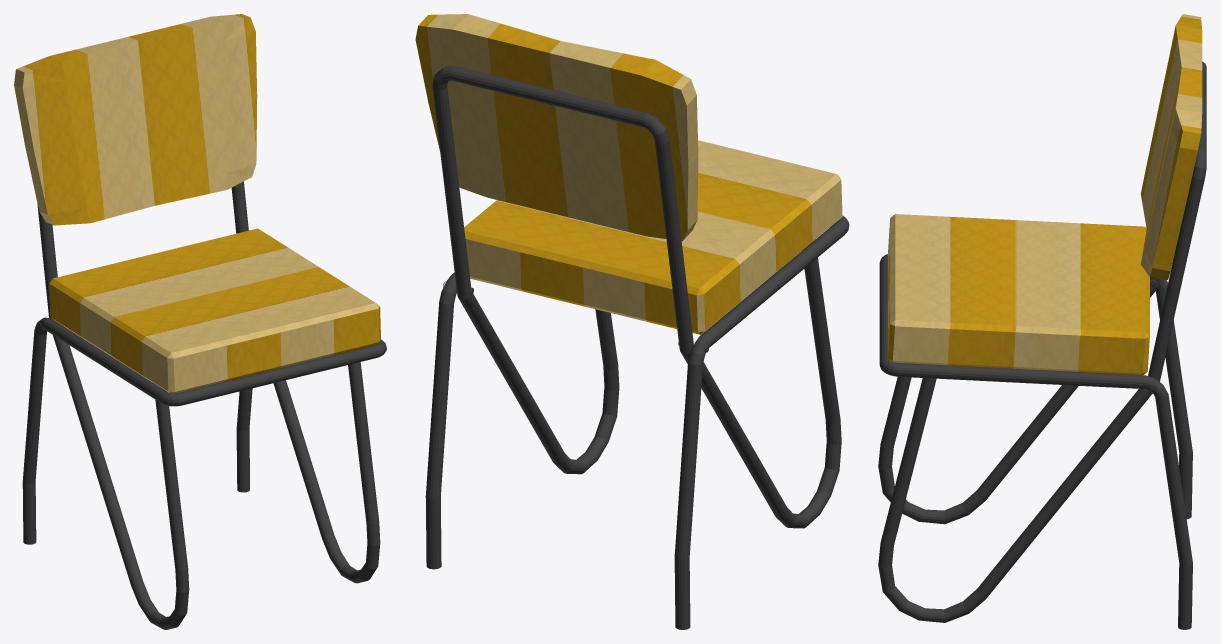
File: sweethome3d-scopia-chair-28.glb
The picture shows the model from 3 angles, left to right: view 1: azimuth 30°, elevation 25°; view 2: azimuth 150°, elevation 25°; view 3: azimuth 270°, elevation 25°; orthographic projection. The views are drawn at different scales.
Visible parts, largest first — view 1: cadiregro2_silla_co_t, cadiregroe_silla_co_t, cadiregro2_metall; view 2: cadiregro2_silla_co_t, cadiregroe_silla_co_t, cadiregro2_metall; view 3: cadiregroe_silla_co_t, cadiregro2_metall, cadiregro2_silla_co_t.
Boxes of the visible parts, x1,y1,x2,y2 form: cadiregro2_silla_co_t: [14, 14, 257, 225]; cadiregroe_silla_co_t: [49, 228, 380, 393]; cadiregro2_metall: [22, 181, 386, 629]; cadiregro2_silla_co_t: [415, 14, 698, 241]; cadiregroe_silla_co_t: [464, 140, 842, 334]; cadiregro2_metall: [425, 66, 849, 629]; cadiregroe_silla_co_t: [888, 214, 1149, 375]; cadiregro2_metall: [878, 61, 1206, 629]; cadiregro2_silla_co_t: [1141, 14, 1202, 279].
Size of the model in its own units: 0.4404 by 0.8637 by 0.5075.
2 materials, 1 textured.
